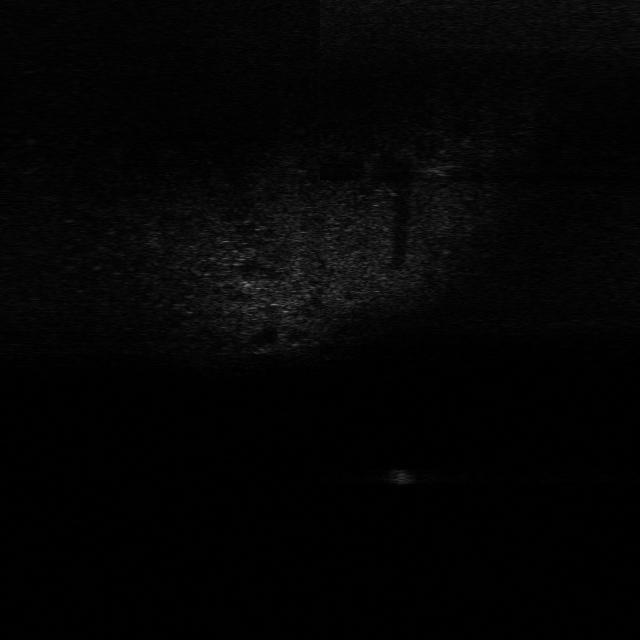cylinder: (386, 468, 416, 486)
